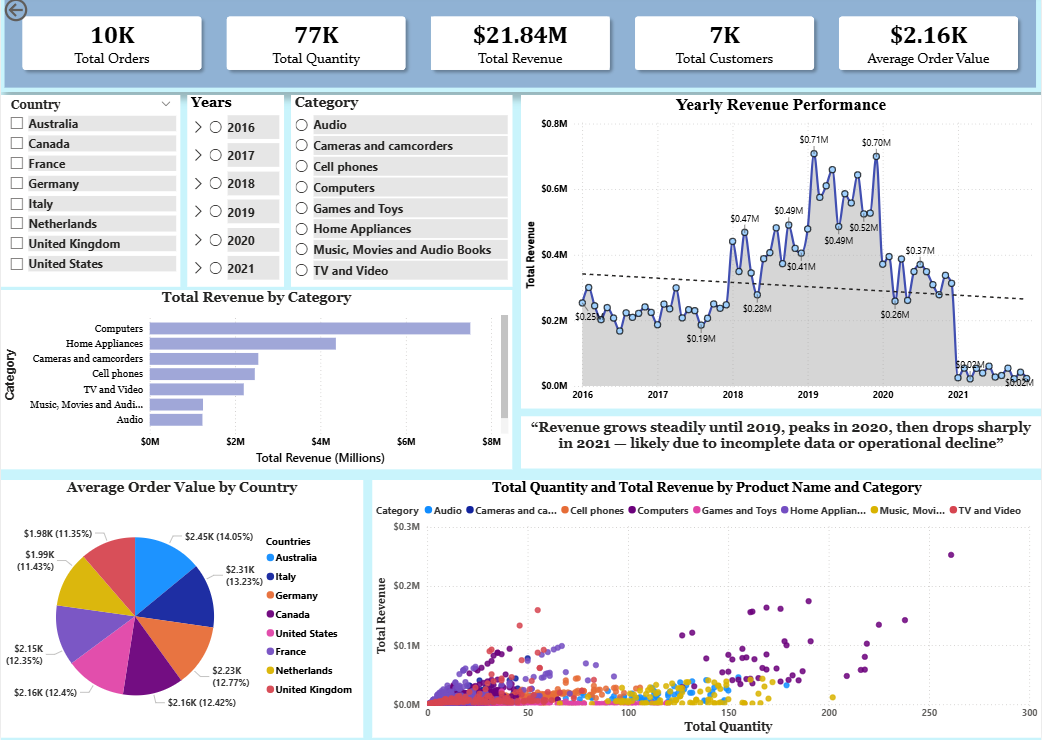

What the dashboard file says about the page in this screenshot:
{"tool":"powerbi","page":{"name":"Page 1","canvas":[1400,1005],"ordinal":0},"visuals":[{"type":"cardVisual","fields":{"Data":["Sales.Total Orders","Sales.Total Quantity","Sales.Total Revenue","Sales.Total Customers","Sales.Average Order Value"]},"box":[0,0,1400.8,130.7],"z":0},{"type":"lineChart","title":"Yearly Revenue Performance","fields":{"Y":["Sales.Total sales"],"Category":["Sales.Order Date.Variation.Date Hierarchy.Year","Sales.Order Date.Variation.Date Hierarchy.Month"]},"box":[700.4,134,700.4,422.3],"z":1000},{"type":"textbox","box":[700.4,568,700.4,70.4],"z":2000},{"type":"actionButton","box":[0,0,99.4,40.4],"z":3000},{"type":"clusteredBarChart","fields":{"Category":["Products.Category"],"Y":["Sales.Total Revenue"]},"box":[0,397.1,688.7,241.3],"z":4000},{"type":"slicer","fields":{"Values":["Customers data.Country"]},"box":[0,134,241.3,258],"z":5000},{"type":"listSlicer","title":"Years","fields":{"Values":["Sales.Order Date.Variation.Date Hierarchy.Year","Sales.Order Date.Variation.Date Hierarchy.Day"]},"box":[251,134,130.7,258],"z":6000},{"type":"pieChart","fields":{"Y":["Sales.Average Order Value"],"Category":["Customers data.Country"]},"box":[0,653.5,487.6,346.9],"z":7000},{"type":"scatterChart","fields":{"X":["Sales.Total Quantity"],"Y":["Sales.Total Revenue"],"Category":["Products.Product Name"],"Series":["Products.Category"]},"box":[499.3,653.5,901.5,346.9],"z":8000},{"type":"listSlicer","fields":{"Values":["Products.Category"]},"box":[390.4,134,298.3,258],"z":9000}]}

Visuals, with their boxes in screenshot pixels (x1, y1, x2, y2), scaled from the page's 1400x1005 canvas onto the 1042x740 screenshot:
cardVisual - Sales.Total Orders x Sales.Total Quantity: x1=0 y1=0 x2=1041 y2=96
"Yearly Revenue Performance" lineChart: x1=521 y1=99 x2=1041 y2=410
textbox: x1=521 y1=418 x2=1041 y2=470
actionButton: x1=0 y1=0 x2=74 y2=30
clusteredBarChart - Products.Category x Sales.Total Revenue: x1=0 y1=292 x2=513 y2=470
slicer - Customers data.Country: x1=0 y1=99 x2=180 y2=289
"Years" listSlicer: x1=187 y1=99 x2=284 y2=289
pieChart - Sales.Average Order Value x Customers data.Country: x1=0 y1=481 x2=363 y2=737
scatterChart - Sales.Total Quantity x Sales.Total Revenue: x1=372 y1=481 x2=1041 y2=737
listSlicer - Products.Category: x1=291 y1=99 x2=513 y2=289
